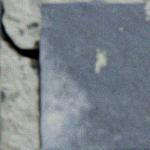brick: (41, 2, 149, 149), (0, 40, 2, 143), (0, 0, 2, 14)
crack: (0, 1, 43, 149)
